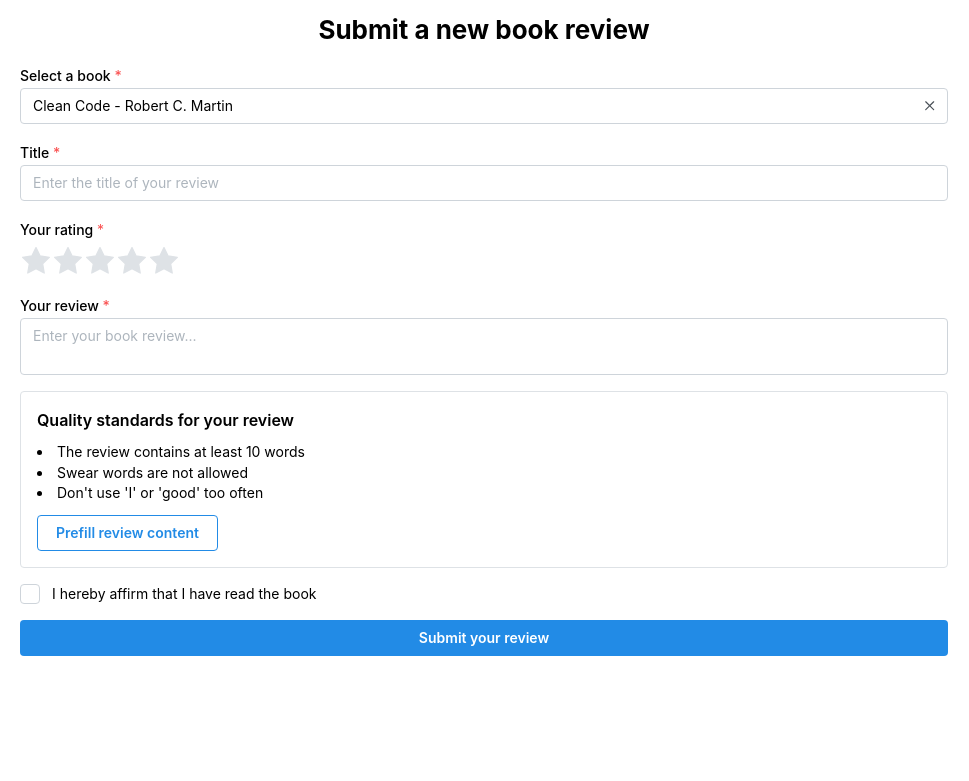
SubmitReviewContainer — submission › shows generic error message on unexpected server error (500)
Type "A must-read for every developer" into the field labelled "Title *" at (484, 183), box [20,165,948,201]
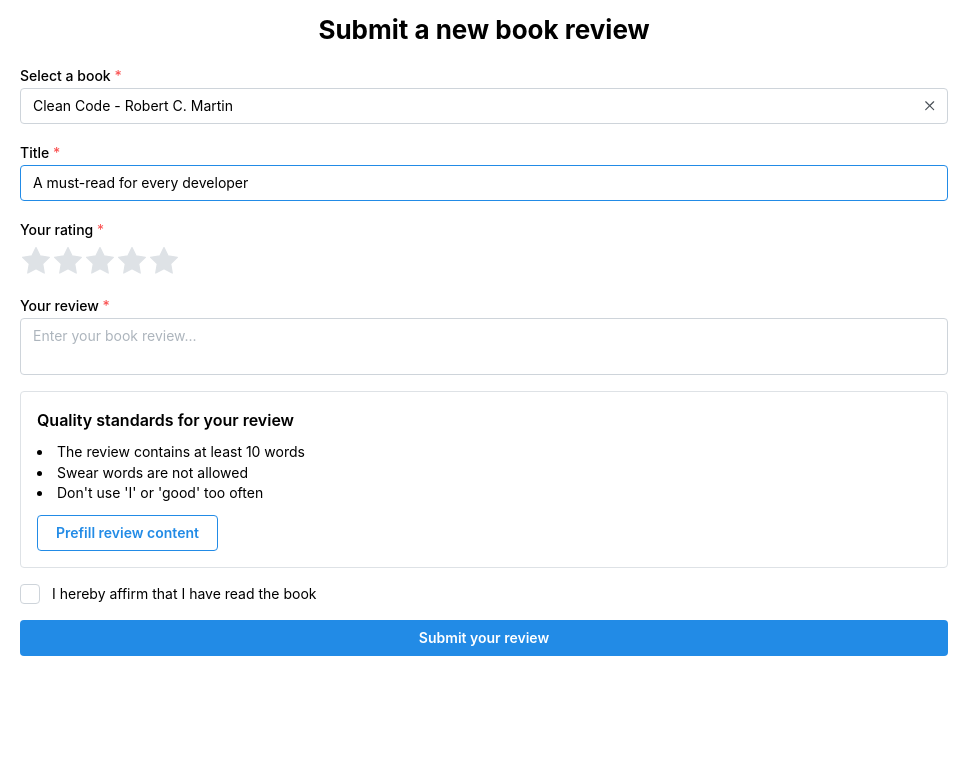
Click the 6th radio button at (164, 262), box [148,246,180,278]
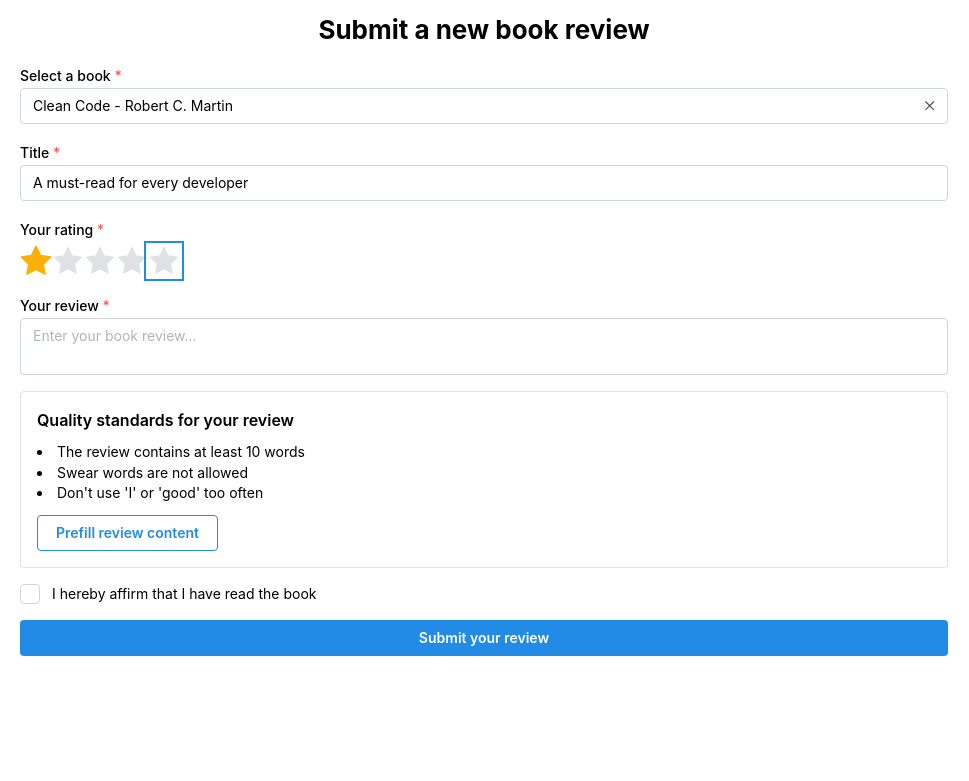
Type "This is an excellent book that every software engineer should read." into the text box labelled "Your review *" at (484, 346), box [20,318,948,375]
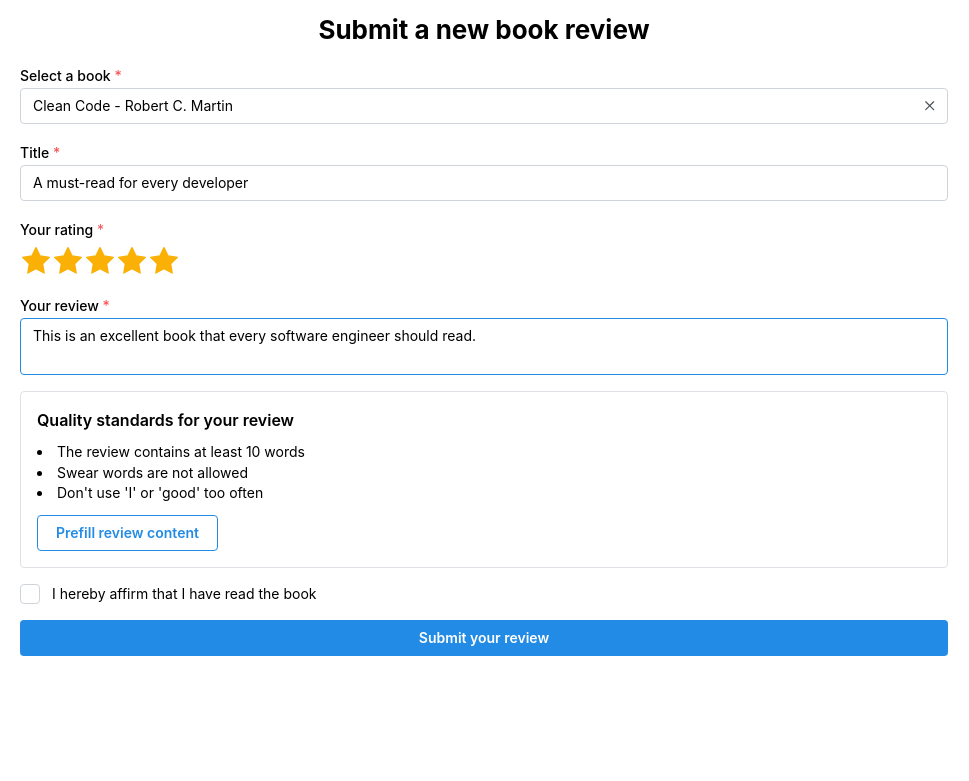
Click the checkbox at (30, 594), box [20,584,40,604]
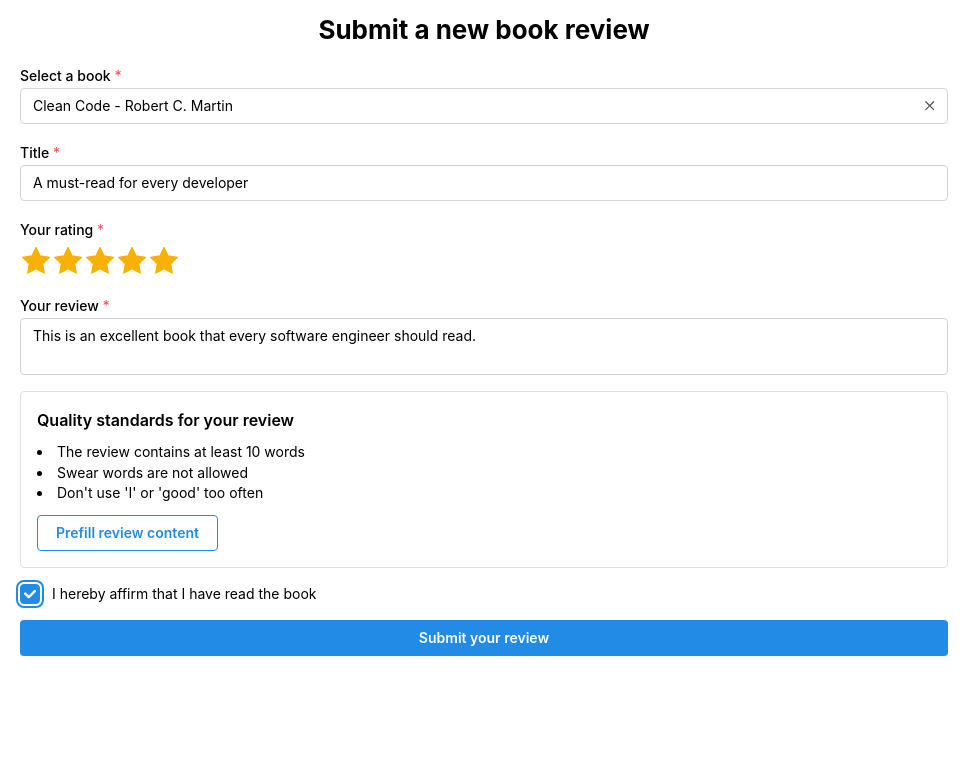
Click the button "Submit your review" at (484, 638), box [20,620,948,656]
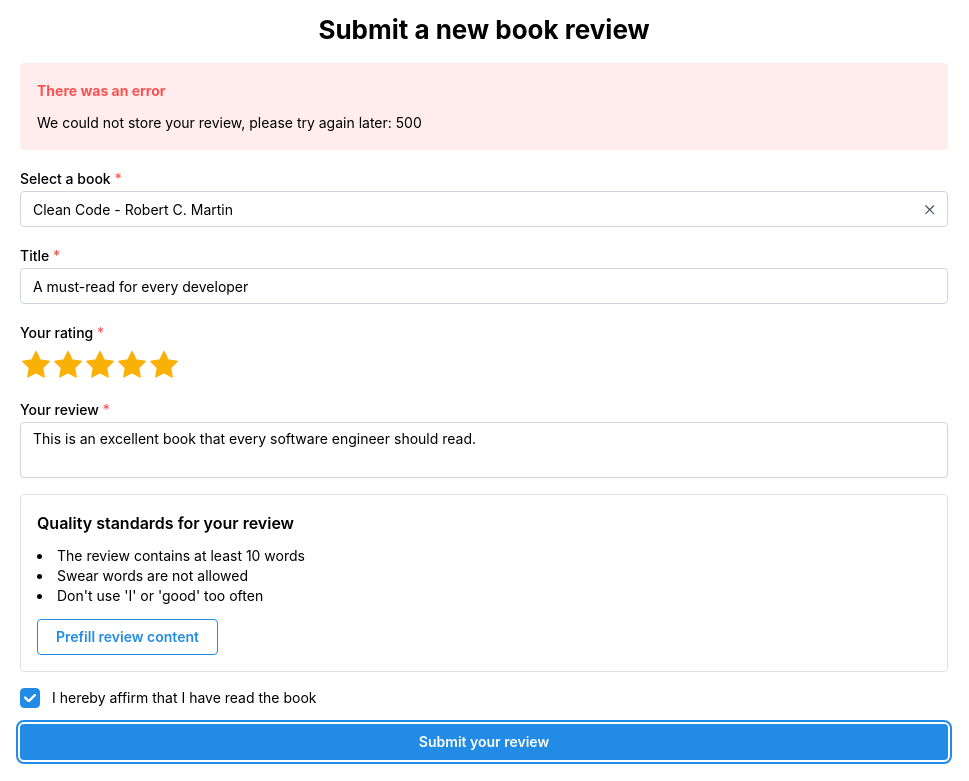
Check: the text "There was an error" is shown, box [37,80,166,102]
Check: the text "We could not store your review, please try again later: 500" is shown, box [37,114,422,131]
